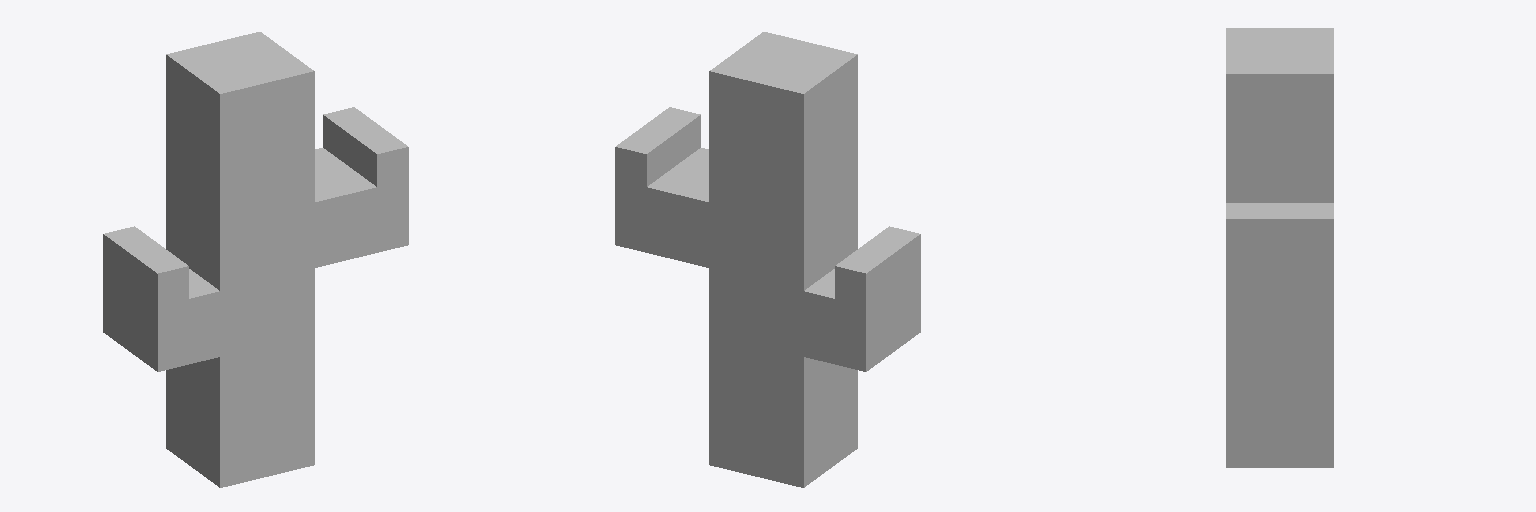
Rendered from cactus.obj.
The picture shows the model from 3 angles: view 1: azimuth 30°, elevation 25°; view 2: azimuth 150°, elevation 25°; view 3: azimuth 270°, elevation 25°; orthographic projection.
Parts seen in each view (by area): view 1: object 1; view 2: object 1; view 3: object 1.
Boxes of the visible parts, <box> form: object 1: <box>103,32,408,487</box>; object 1: <box>615,32,920,487</box>; object 1: <box>1226,28,1333,467</box>.
Size of the model in its own units: 0.8 by 1.2 by 0.3.